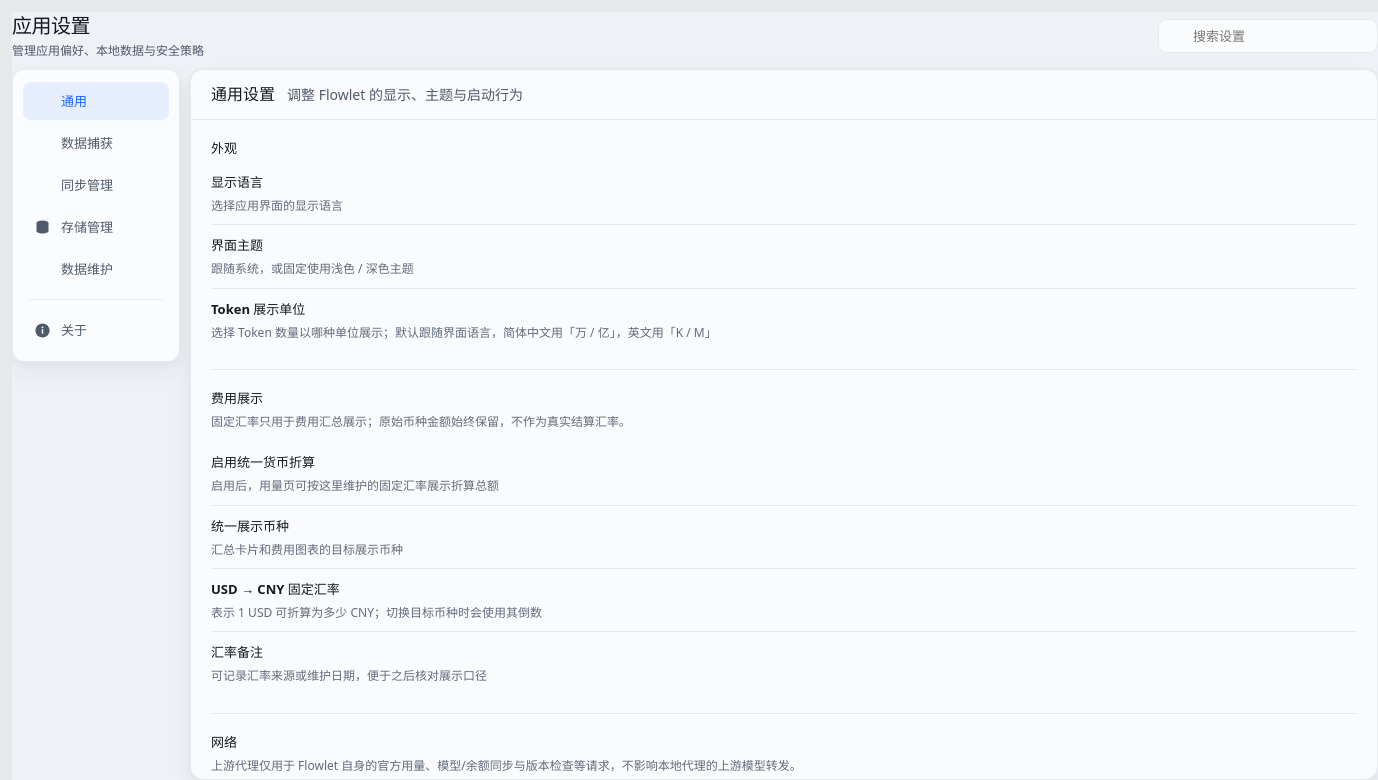
it: SettingsPage › switches content when a different tab is selected
Click the button "数据捕获" at (96, 143), box 23,124 -> 169,162
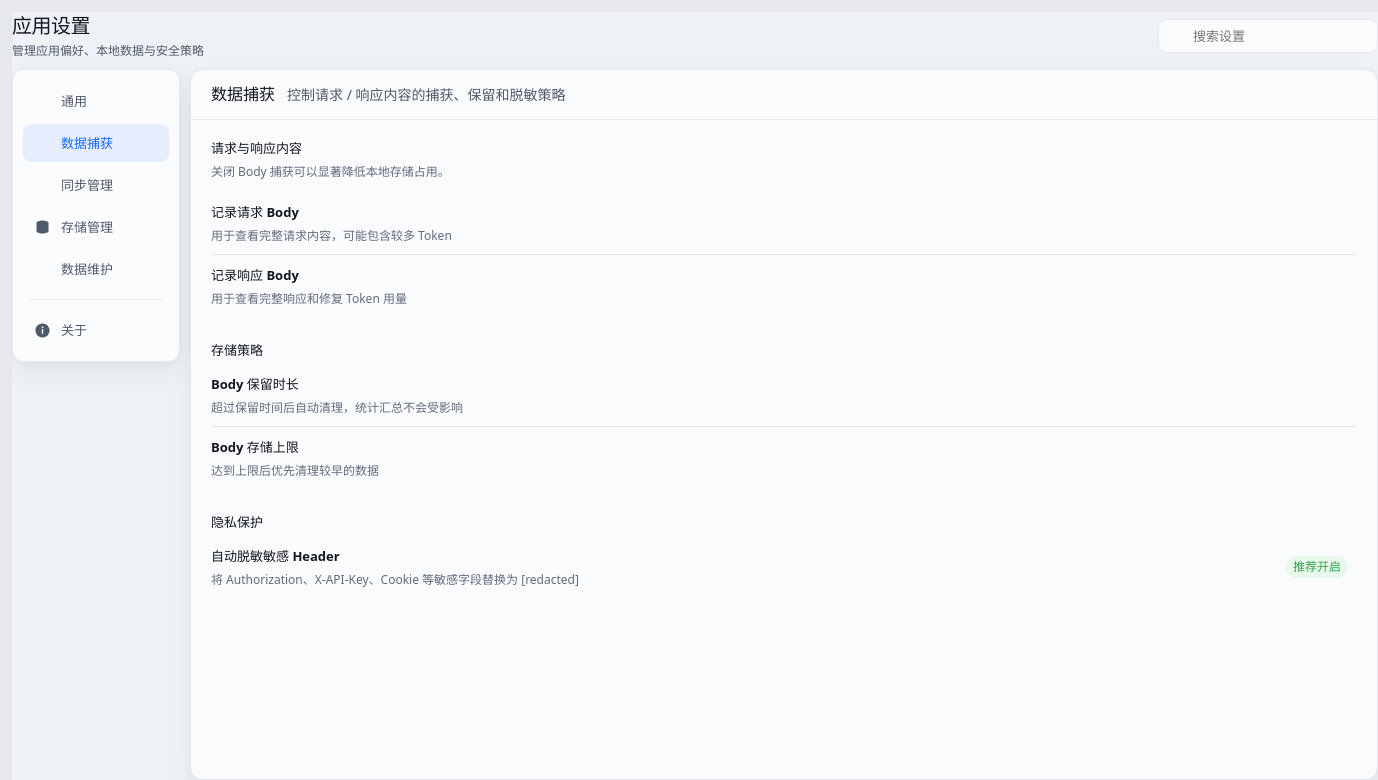
Now the text "记录请求 Body" is shown, box 211,203 -> 299,221
Now the text "推荐开启" is shown, box 1286,556 -> 1348,578
